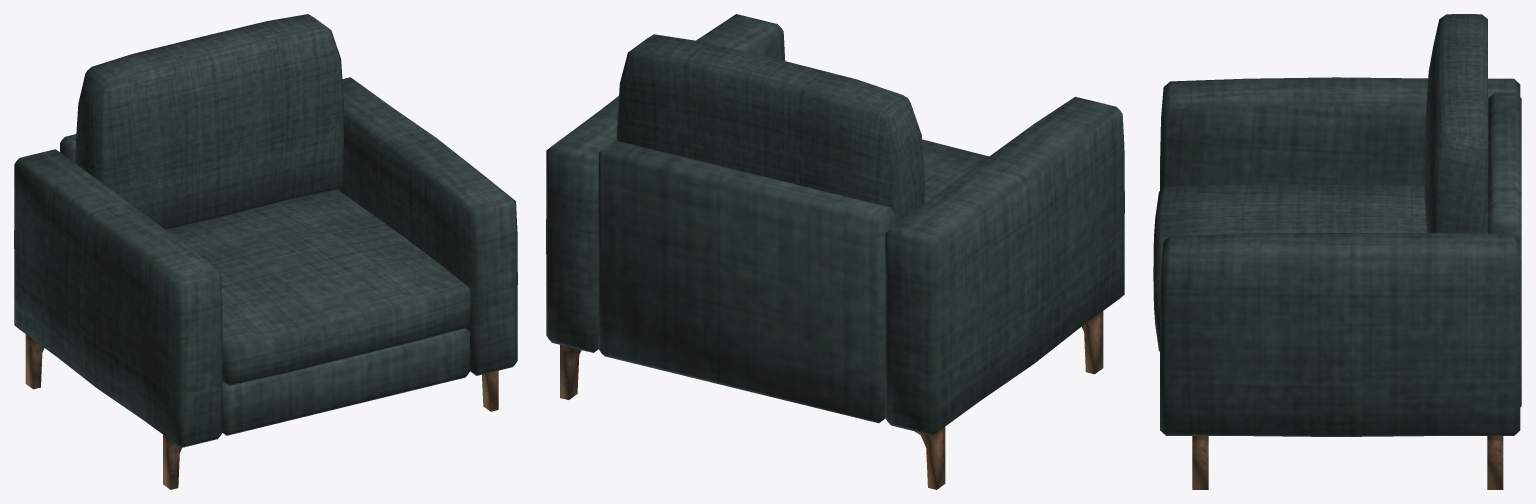
Rendered from armchair.glb.
3 renders of one model, left to right at view 1: azimuth 30°, elevation 25°; view 2: azimuth 150°, elevation 25°; view 3: azimuth 270°, elevation 25°, orthographic. The views are drawn at different scales.
Parts seen in each view (by area): view 1: Cube; view 2: Cube; view 3: Cube.
Boxes of the visible parts, x1=… form: Cube: x1=14, y1=14, x2=517, y2=489; Cube: x1=546, y1=14, x2=1124, y2=489; Cube: x1=1153, y1=14, x2=1521, y2=489.
Bounding box in the file's own units: 2.83 × 2.42 × 2.39.
Materials: 1 (1 with a texture image).
